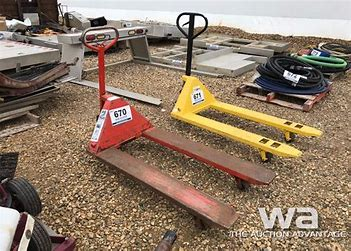Pallet Jack: (80, 25, 275, 231), (170, 9, 323, 165)
